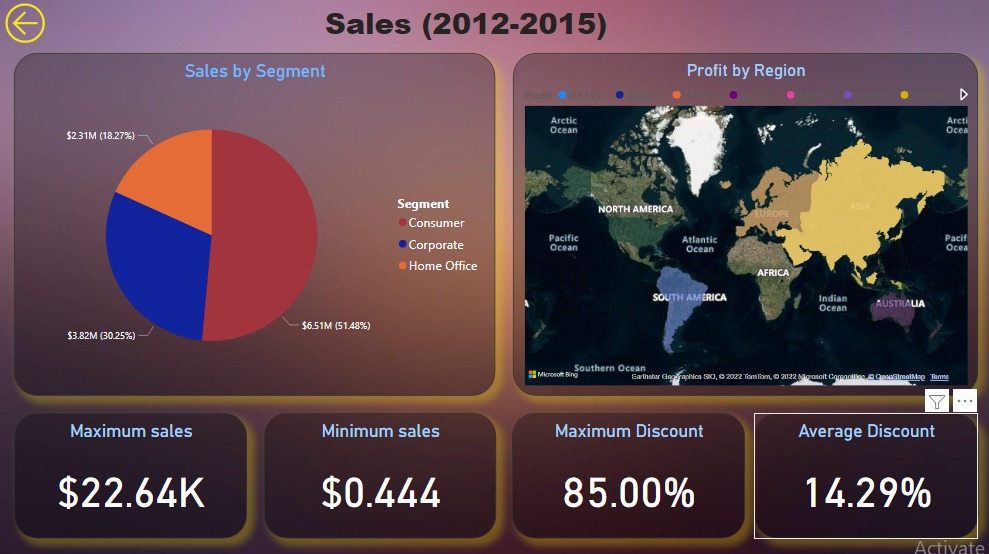

Layout of this report page (visuals, bound fields, positions):
{"tool":"powerbi","page":{"name":"Page 2","canvas":[1280,720],"ordinal":2},"visuals":[{"type":"filledMap","title":"Profit by Region","fields":{"Category":["Orders.Region"],"Series":["Orders.Profit"]},"box":[663.2,71,600.7,443.1],"z":0},{"type":"card","title":"Minimum sales","fields":{"Values":["Min(Orders.Sales)"]},"box":[340.8,536.8,299.6,161.9],"z":1000},{"type":"card","title":"Maximum sales","fields":{"Values":["Max(Orders.Sales)"]},"box":[18.5,536.8,301.1,161.9],"z":2000},{"type":"pieChart","fields":{"Category":["Orders.Segment"],"Y":["Sum(Orders.Sales)"]},"box":[18.5,71,622,443.1],"z":3000},{"type":"card","title":"Maximum Discount","fields":{"Values":["Max(Orders.Discount)"]},"box":[661.8,536.8,301.1,161.9],"z":4000},{"type":"card","title":"Average Discount","fields":{"Values":["Avg(Orders.Discount)"]},"box":[974.2,536.8,289.7,161.9],"z":5000},{"type":"textbox","box":[414.7,0,387.7,66.7],"z":6000},{"type":"actionButton","box":[0,0,82.4,65.3],"z":7000}]}

Visuals, with their boxes in screenshot pixels (x1, y1, x2, y2), scaled from the page's 1280x720 canvas onto the 989x554 screenshot:
"Profit by Region" filledMap: x1=512 y1=55 x2=977 y2=396
"Minimum sales" card: x1=263 y1=413 x2=495 y2=538
"Maximum sales" card: x1=14 y1=413 x2=247 y2=538
pieChart - Orders.Segment x Sum(Orders.Sales): x1=14 y1=55 x2=495 y2=396
"Maximum Discount" card: x1=511 y1=413 x2=744 y2=538
"Average Discount" card: x1=753 y1=413 x2=977 y2=538
textbox: x1=320 y1=0 x2=620 y2=51
actionButton: x1=0 y1=0 x2=64 y2=50
